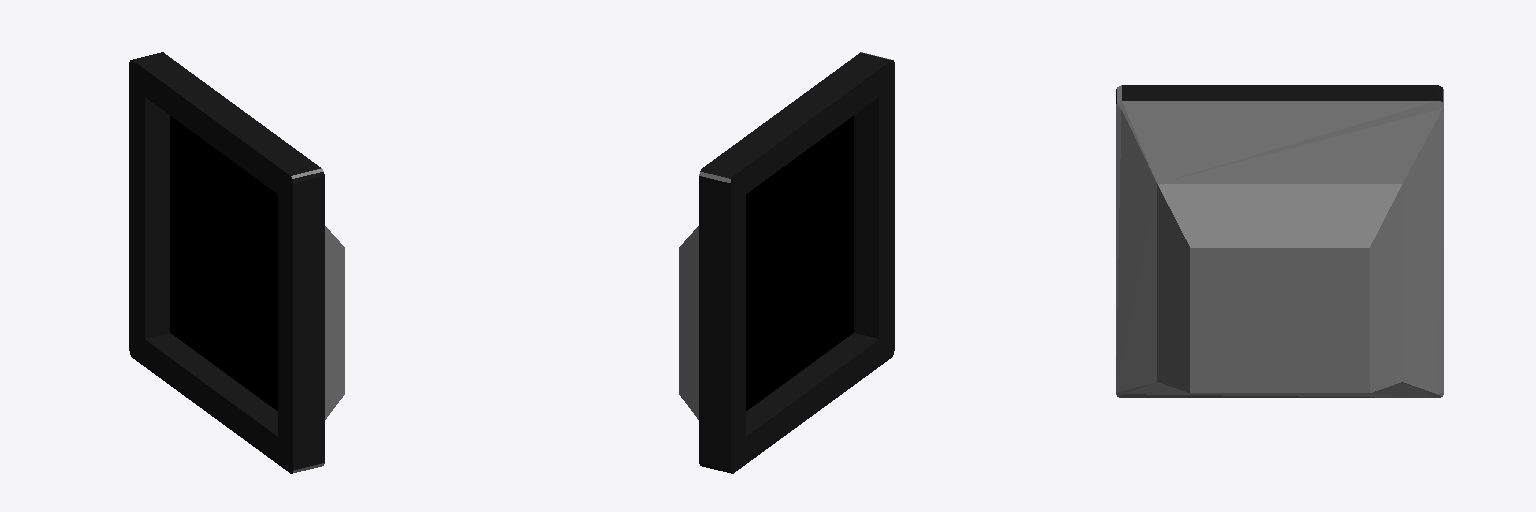
Rendered from CRTPanel.obj.
3 renders of one model, left to right at view 1: azimuth 30°, elevation 25°; view 2: azimuth 150°, elevation 25°; view 3: azimuth 270°, elevation 25°, orthographic.
Visible parts, largest first — view 1: Panel.003_Cube.002; view 2: Panel.003_Cube.002; view 3: Panel.003_Cube.002.
Boxes of the visible parts, <box> form: Panel.003_Cube.002: <box>129,52,344,473</box>; Panel.003_Cube.002: <box>679,52,894,473</box>; Panel.003_Cube.002: <box>1116,85,1443,397</box>.
Size of the model in its own units: 0.5709 by 1.82 by 1.82.